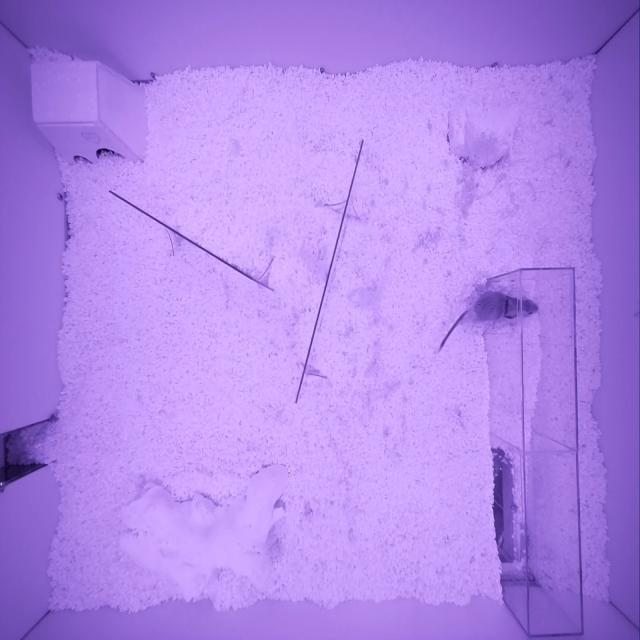adult_front: (474, 291, 539, 322)
